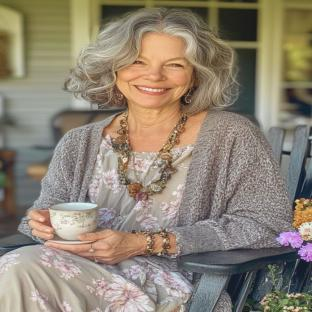Human: (0, 8, 292, 312)
